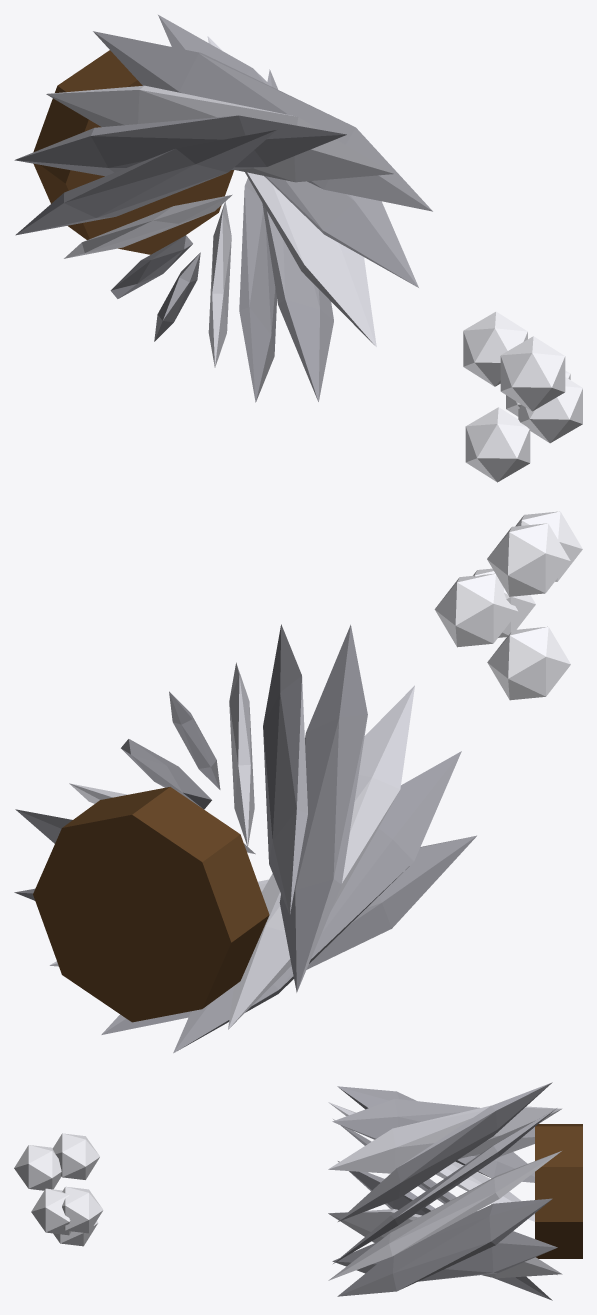
Rendered from 4_mature.obj.
3 renders of one model, top to bottom at view 1: azimuth 30°, elevation 25°; view 2: azimuth 150°, elevation 25°; view 3: azimuth 270°, elevation 25°, orthographic. The views are drawn at different scales.
Parts seen in each view (by area): view 1: kwuarm_4_mature; view 2: kwuarm_4_mature; view 3: kwuarm_4_mature.
Boxes of the visible parts, x1=… form: kwuarm_4_mature: x1=14, y1=15, x2=582, y2=482; kwuarm_4_mature: x1=14, y1=511, x2=582, y2=1053; kwuarm_4_mature: x1=14, y1=1082, x2=582, y2=1300.
Bounding box in the file's own units: 0.1808 × 0.1808 × 0.4745.
